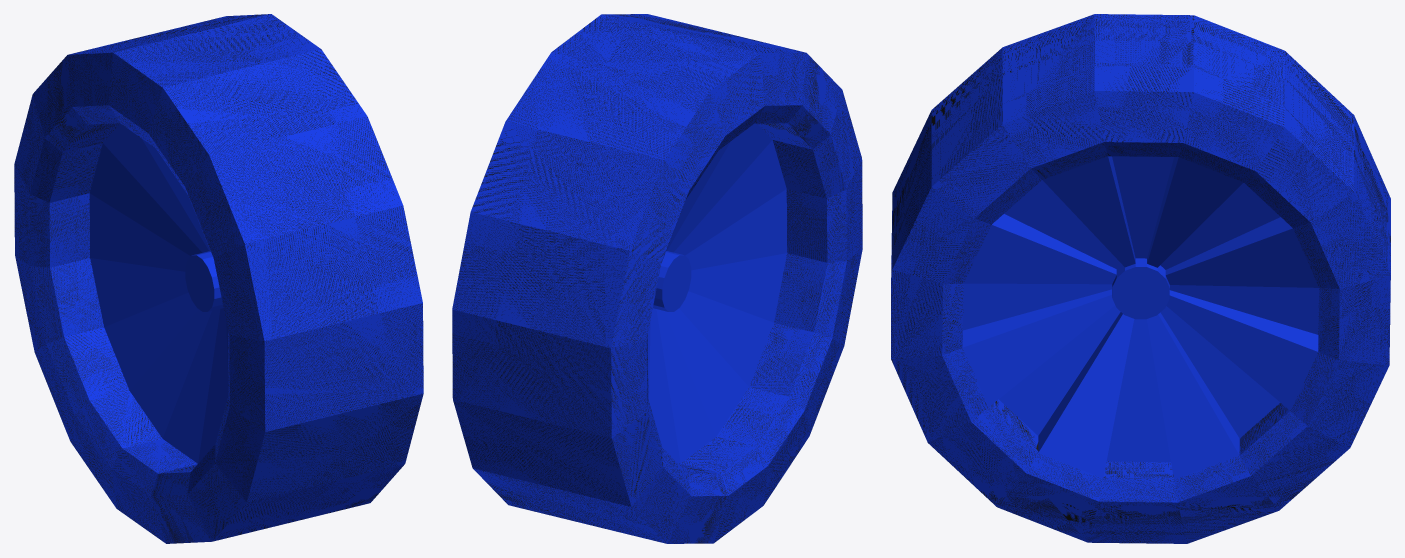
Rendered from WheelFinal.fbx.
3 views of the same model, side by side, from view 1: azimuth 30°, elevation 25°; view 2: azimuth 150°, elevation 25°; view 3: azimuth 270°, elevation 25° (orthographic).
Visible parts, largest first — view 1: Cube; view 2: Cube; view 3: Cube.
Part boxes in pixels (<box>): Cube: <box>14,14,423,543</box>; Cube: <box>452,14,862,543</box>; Cube: <box>891,14,1390,543</box>.
Bounding box in the file's own units: 25.65 × 62.56 × 62.56.
